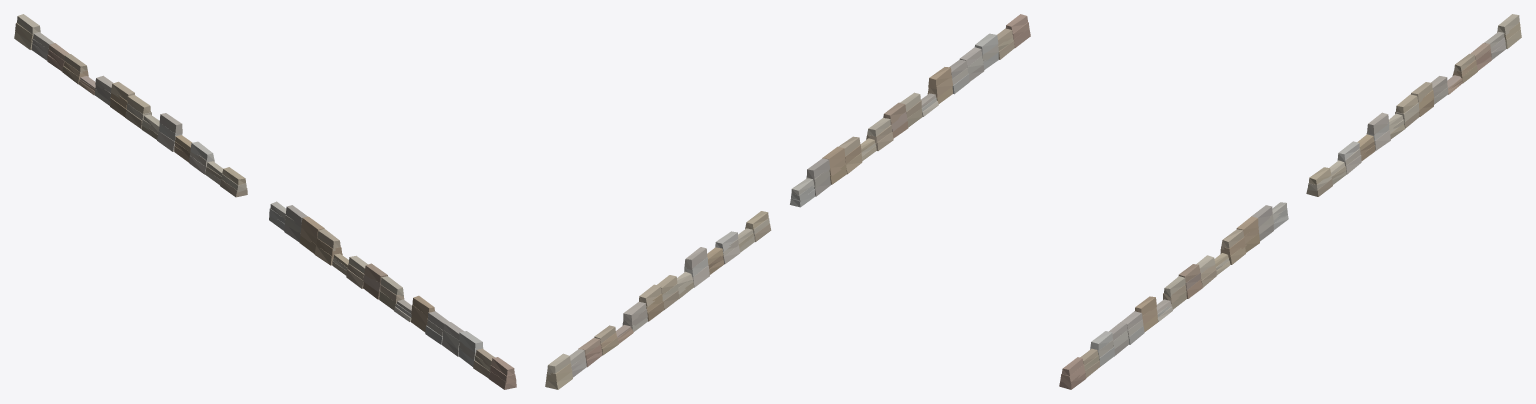
File: farm_26_26_mid.glb
The picture shows the model from 3 angles, left to right: view 1: azimuth 30°, elevation 25°; view 2: azimuth 150°, elevation 25°; view 3: azimuth 330°, elevation 25°; orthographic projection. The views are drawn at different scales.
Parts seen in each view (by area): view 1: geometry_0; view 2: geometry_0; view 3: geometry_0.
Part boxes in pixels (bbox=[...]): geometry_0: bbox=[14, 14, 516, 389]; geometry_0: bbox=[545, 14, 1030, 389]; geometry_0: bbox=[1059, 14, 1521, 389].
Size of the model in its own units: 1.63 by 1.78 by 48.16.
